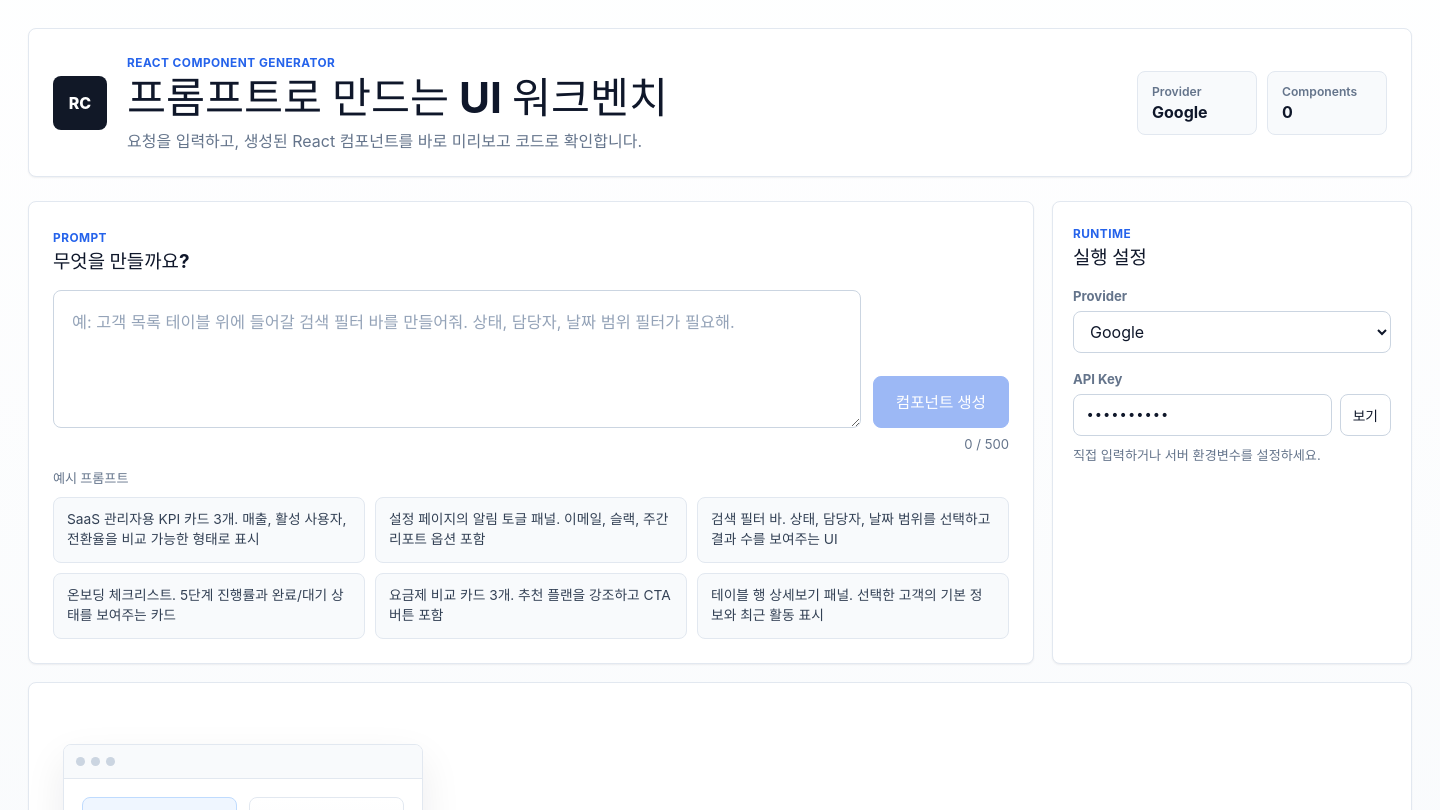
Test: App 설정 영속화 › Provider를 바꿔도 다른 Provider의 키는 보존되고 각자의 키를 보여준다
Step 1. Select "Anthropic" in the dropdown labelled "Provider" → x=1232, y=332, box [1073,311,1391,353]
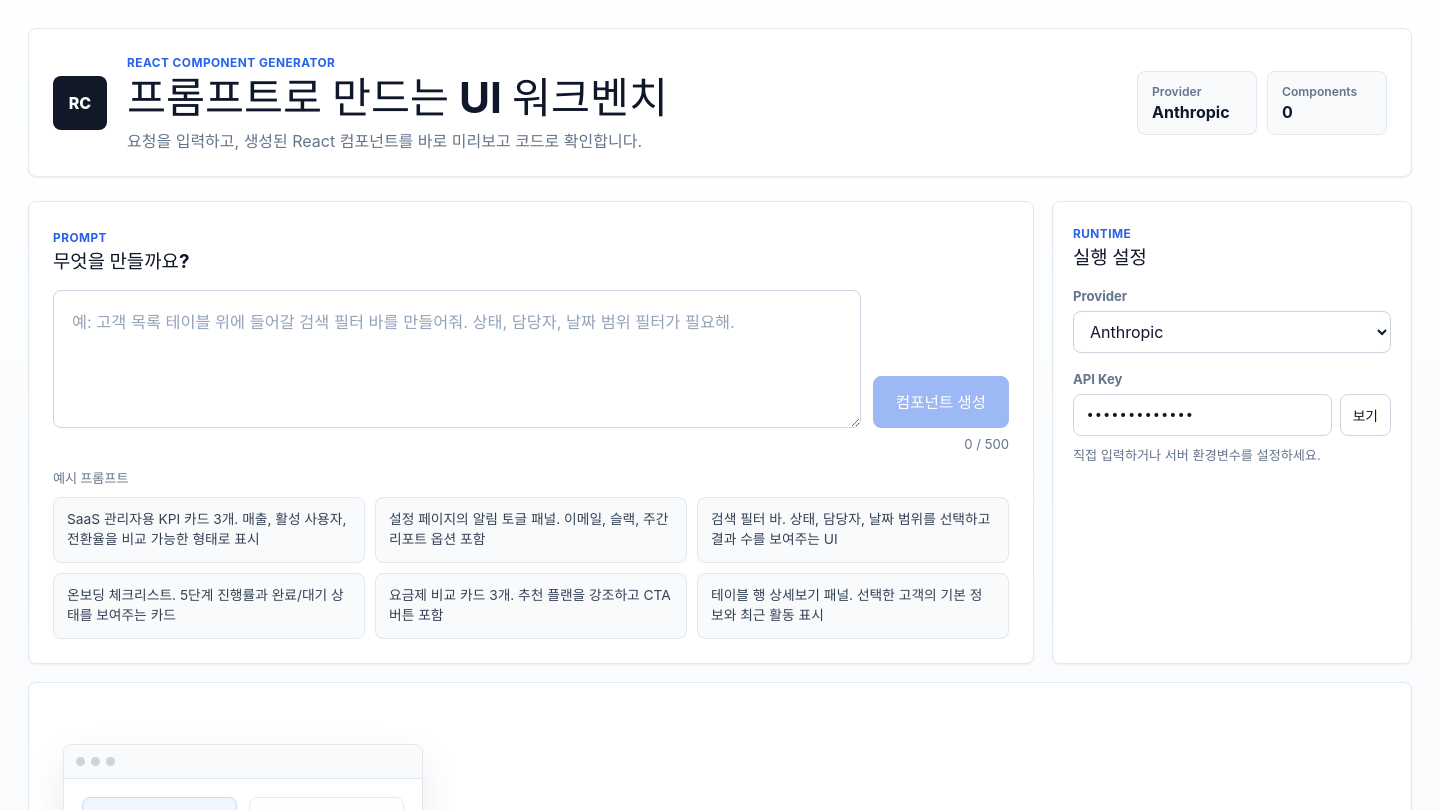
Expected: the password field labelled "API Key" holds "anthropic-key", [1073,394,1332,436]
Step 2. Select "Google" in the dropdown labelled "Provider" → x=1232, y=332, box [1073,311,1391,353]
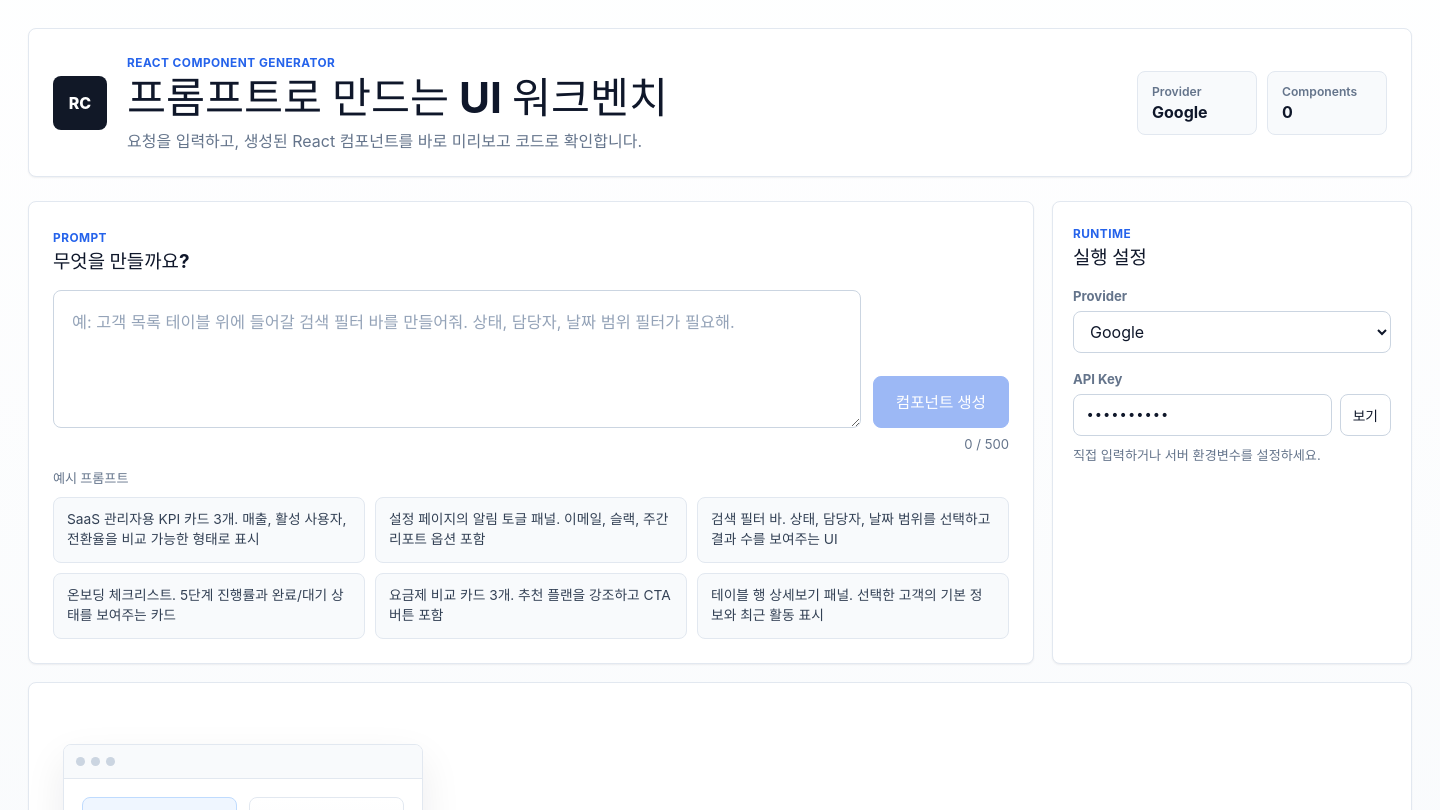
Expected: the password field labelled "API Key" holds "google-key", [1073,394,1332,436]
